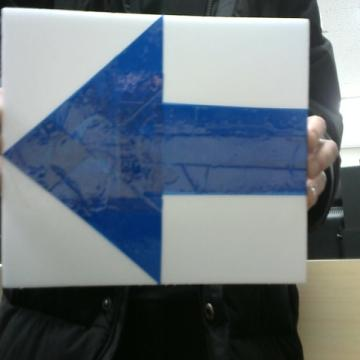blue_left: (4, 16, 305, 281)
